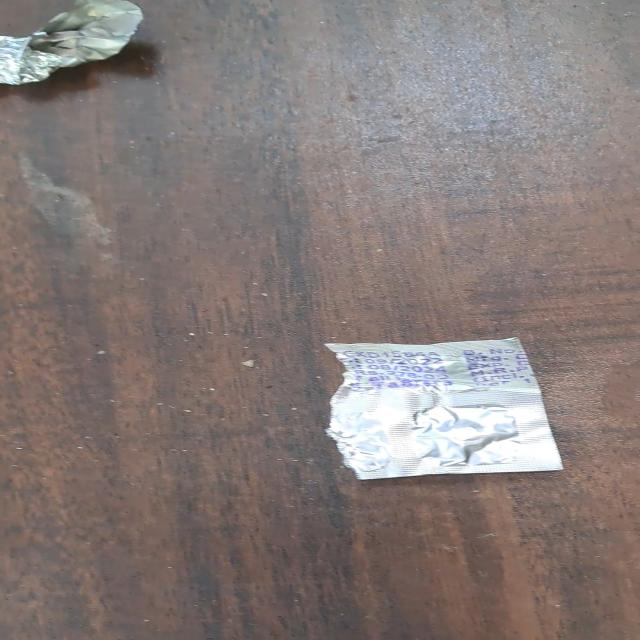Anorganik: (305, 332, 566, 498), (0, 0, 180, 98)
